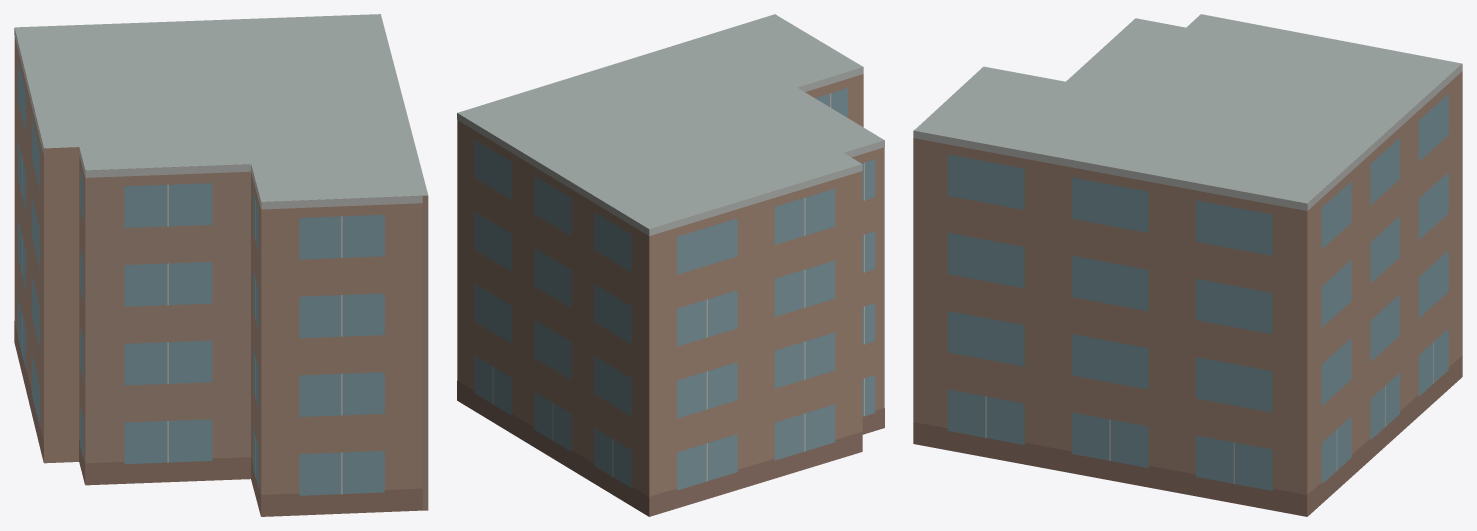
Rendered from survey-upis-32917045.glb.
3 renders of one model, left to right at view 1: azimuth 30°, elevation 25°; view 2: azimuth 150°, elevation 25°; view 3: azimuth 270°, elevation 25°, orthographic. The views are drawn at different scales.
Visible parts, largest first — view 1: survey-upis-32917045.tmp; view 2: survey-upis-32917045.tmp; view 3: survey-upis-32917045.tmp.
Boxes of the visible parts, left/top/right/bottom form: survey-upis-32917045.tmp: left=14, top=14, right=428, bottom=516; survey-upis-32917045.tmp: left=457, top=14, right=884, bottom=516; survey-upis-32917045.tmp: left=913, top=14, right=1462, bottom=516.
Bounding box in the file's own units: 13.24 × 10.2 × 16.21.
